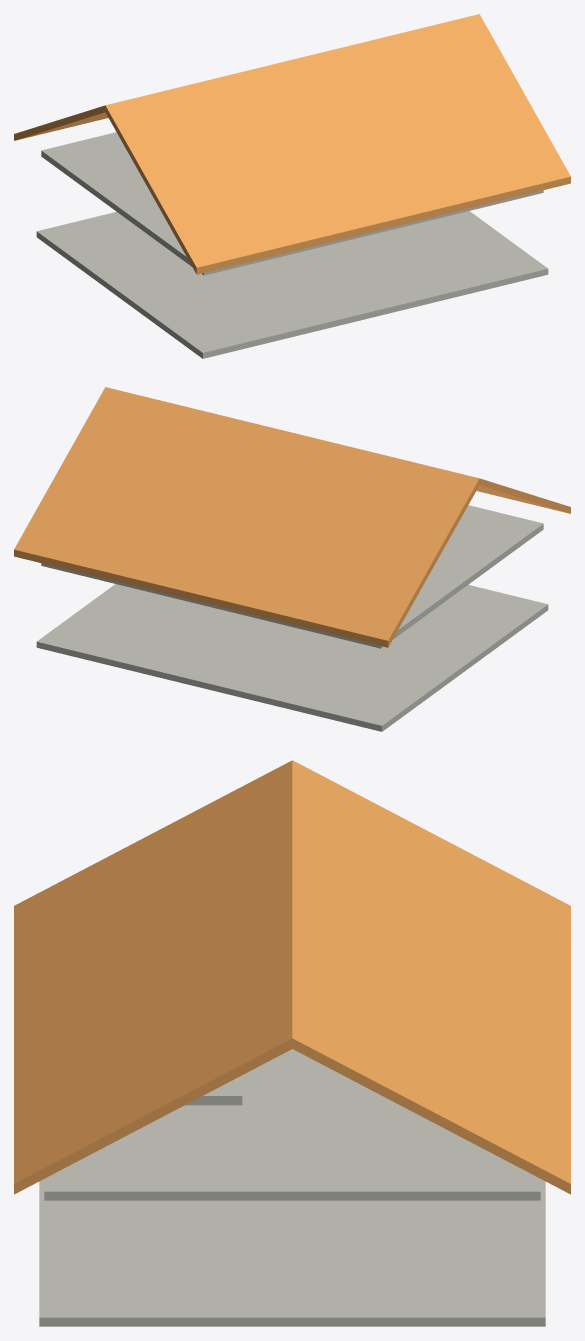
Rendered from model-part.gltf_slabs_allFloors.gltf.
3 views of the same model, one above another, from view 1: azimuth 30°, elevation 25°; view 2: azimuth 150°, elevation 25°; view 3: azimuth 270°, elevation 25° (orthographic). The views are drawn at different scales.
Size of the model in its own units: 13 by 6.52 by 11.
